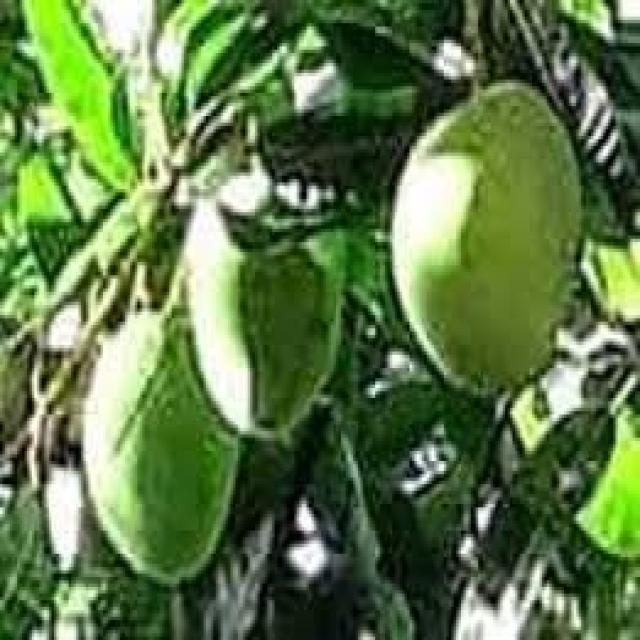mango: (387, 80, 586, 398)
